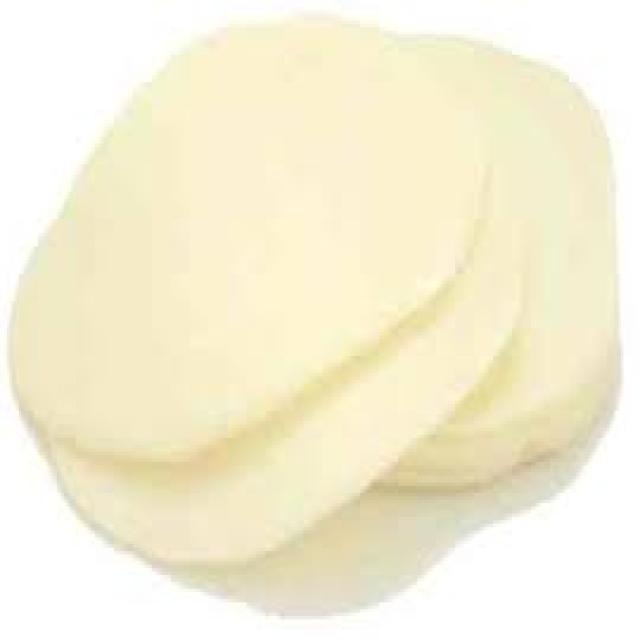cheese: (11, 12, 621, 628)
